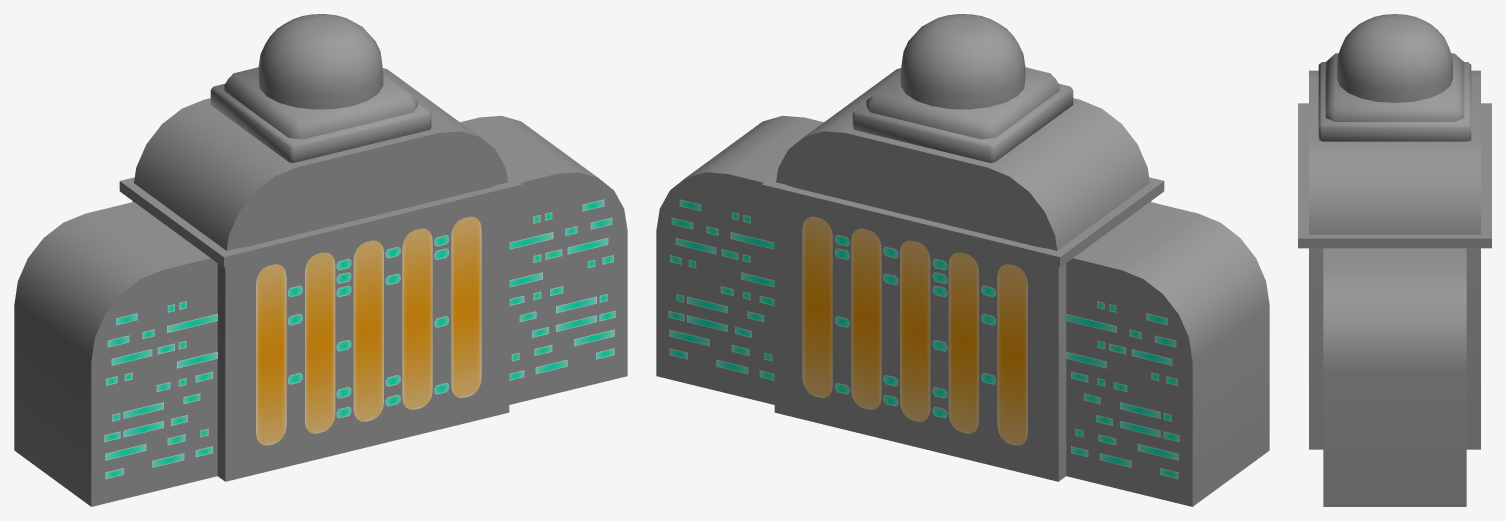
The model's file is Building_035.fbx.
The picture shows the model from 3 angles, left to right: view 1: azimuth 30°, elevation 25°; view 2: azimuth 150°, elevation 25°; view 3: azimuth 270°, elevation 25°; orthographic projection. The views are drawn at different scales.
Parts seen in each view (by area): view 1: Building_035; view 2: Building_035; view 3: Building_035.
Part boxes in pixels (x1,y1,x2,y2): Building_035: (14,14,627,506); Building_035: (656,14,1269,506); Building_035: (1298,14,1491,506).
Bounding box in the file's own units: 59.17 × 41.08 × 19.92.
Materials: 2 (1 with a texture image).
